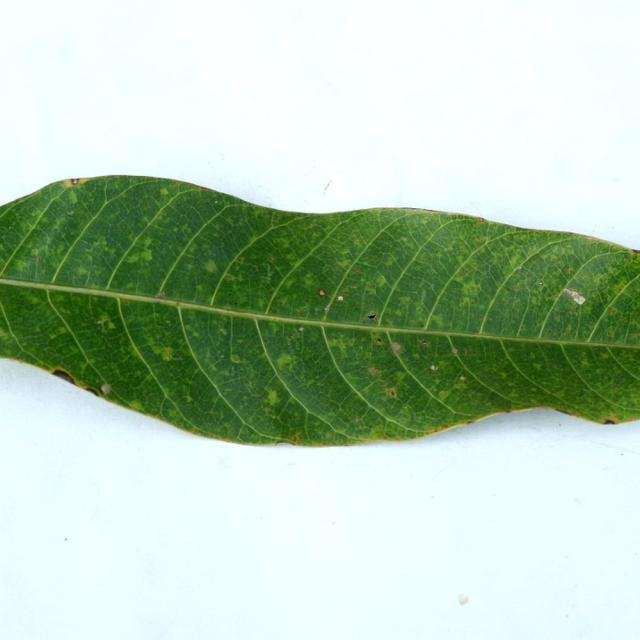Mango: (0, 176, 639, 445)
Powdery_Mildew: (273, 321, 322, 372), (149, 292, 191, 309), (567, 283, 597, 305), (396, 207, 462, 215), (149, 343, 172, 360), (51, 369, 77, 384), (11, 258, 28, 274), (264, 388, 279, 405), (82, 386, 103, 398), (599, 415, 623, 425), (277, 354, 294, 368), (96, 314, 111, 329), (203, 259, 218, 274), (137, 248, 152, 262), (125, 253, 142, 264), (67, 190, 78, 205), (389, 342, 402, 354), (100, 383, 112, 395), (367, 367, 380, 378), (273, 440, 295, 446), (141, 237, 153, 248), (154, 290, 166, 300), (385, 387, 397, 397), (230, 354, 242, 364), (366, 312, 378, 321), (627, 247, 639, 254), (159, 188, 169, 196), (317, 288, 326, 296), (31, 248, 40, 256), (70, 178, 80, 185), (475, 236, 486, 242), (407, 207, 423, 211), (419, 340, 429, 346), (324, 305, 331, 313), (451, 347, 458, 355), (352, 417, 361, 423), (220, 328, 227, 335), (34, 255, 41, 262), (610, 308, 617, 315), (291, 436, 298, 442), (567, 267, 574, 273), (430, 365, 438, 370), (337, 296, 343, 302), (459, 376, 466, 381), (537, 281, 543, 286), (401, 236, 407, 241), (635, 249, 640, 254), (298, 327, 304, 331), (478, 217, 484, 221), (97, 321, 104, 324), (68, 210, 73, 214), (173, 227, 178, 231), (518, 266, 522, 270), (166, 320, 170, 324), (315, 309, 318, 314), (215, 201, 218, 204)
